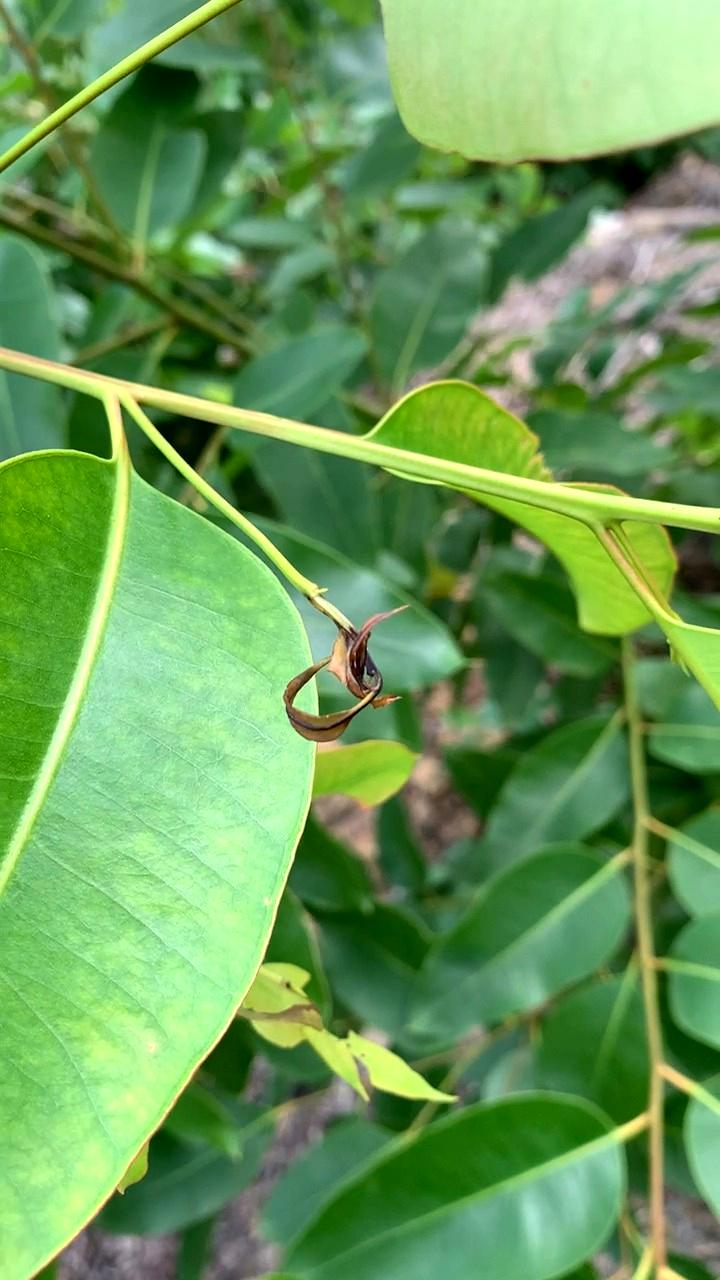Helopeltis-Withered Sprout: (263, 580, 428, 775)
